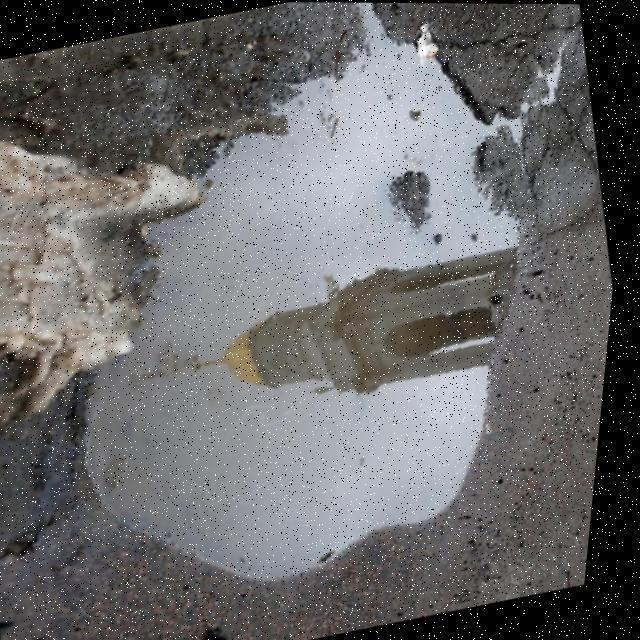Pothole: (61, 0, 545, 599)
